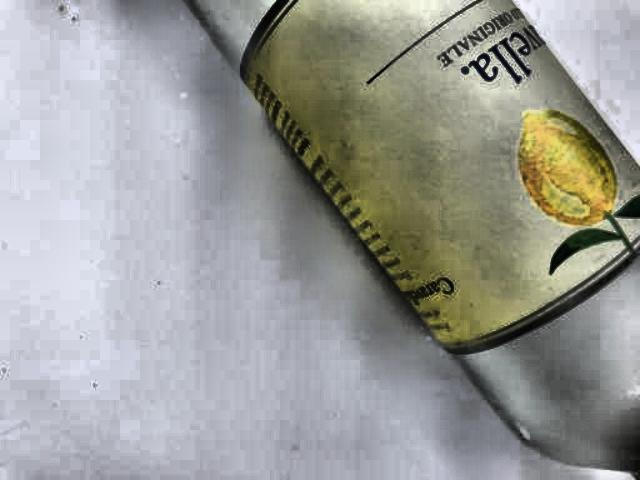Bottles: (124, 0, 640, 480)
